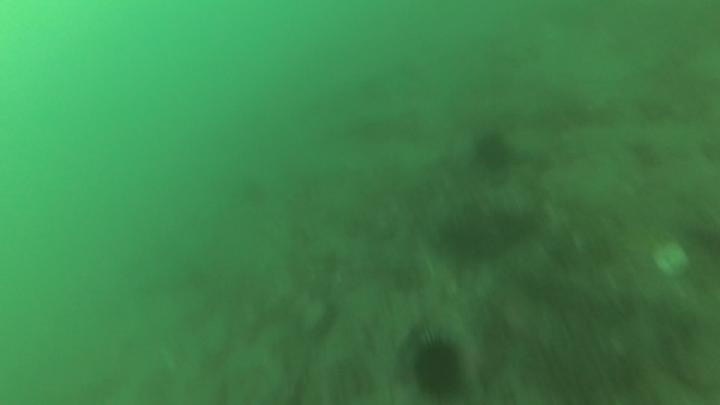echinus: (406, 331, 470, 403), (438, 208, 505, 268), (471, 130, 515, 175)
